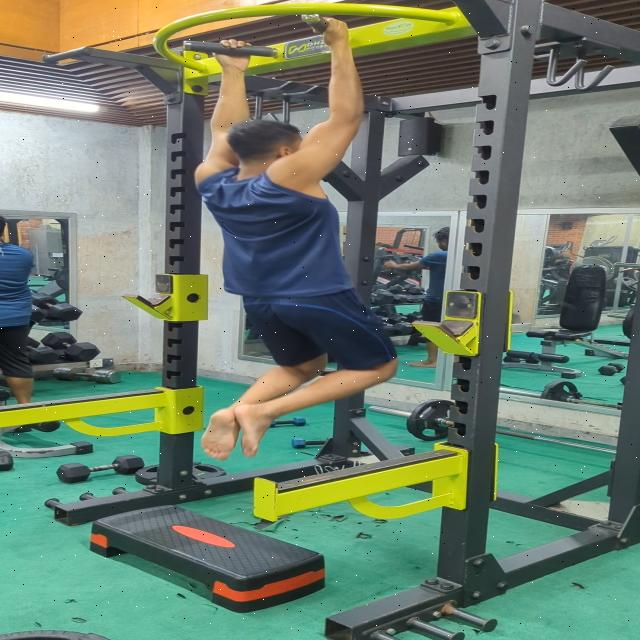Normal_PullUps: (193, 10, 402, 462)
